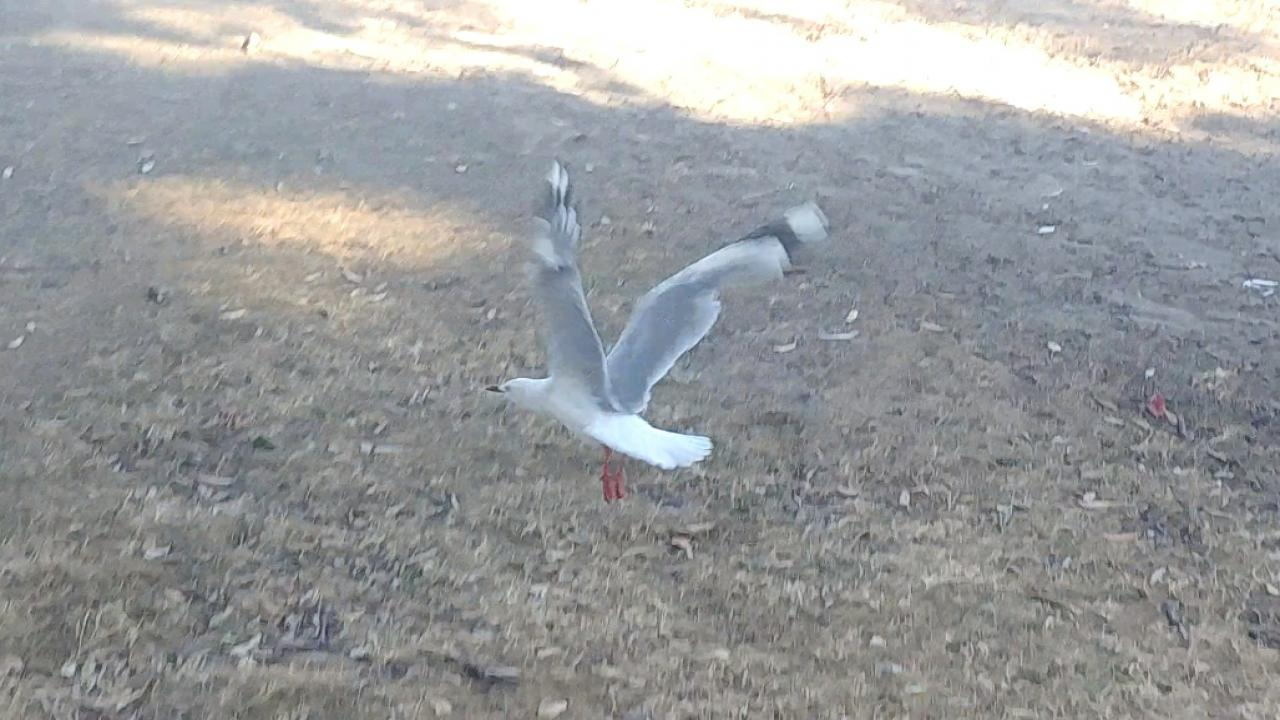Bird: (481, 151, 840, 507)
